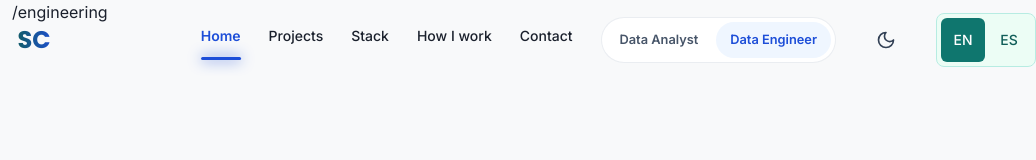
Test: Navbar route-aware shell › navigates the engineer profile to the exclusive how-i-work path
Click the button "How I work" at (454,40), box [417,20,492,60]
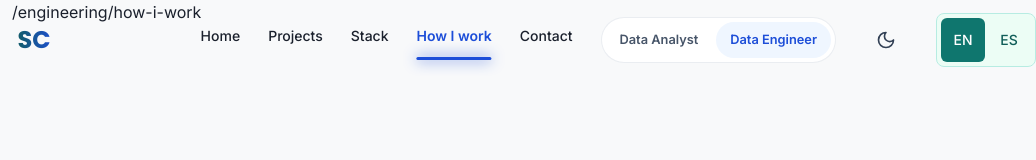
Now the text with test id "current-pathname" reads "/engineering/how-i-work", box [12,2,201,22]
